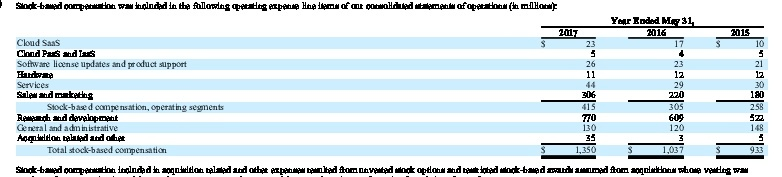table: (0, 0, 782, 177)
